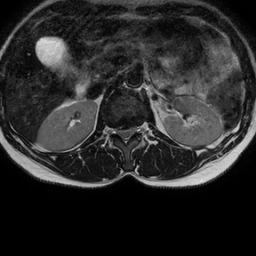CCS_normal: (122, 120, 128, 148)
LFS_normal: (136, 119, 143, 139)
LLS_normal: (129, 121, 136, 142)
RFS_normal: (109, 121, 117, 139)
RLS_stenosis: (116, 121, 122, 143)
